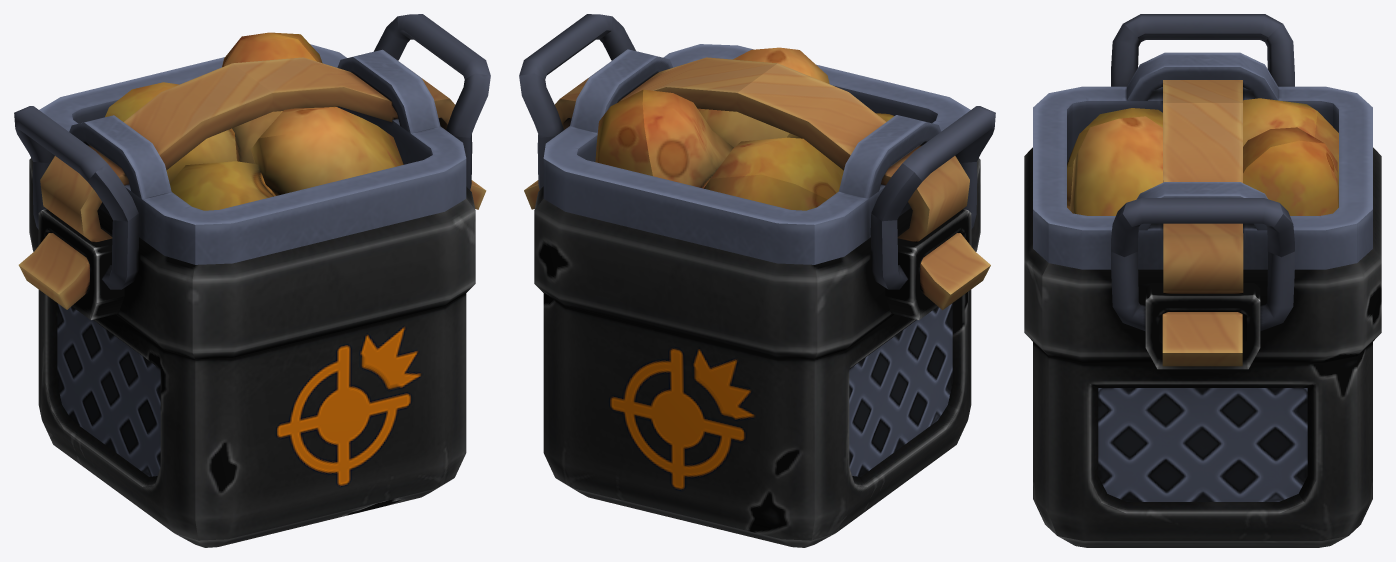
The model's file is ammo_from_scrap_mechanic.glb.
The picture shows the model from 3 angles, left to right: view 1: azimuth 30°, elevation 25°; view 2: azimuth 150°, elevation 25°; view 3: azimuth 270°, elevation 25°; orthographic projection.
Parts seen in each view (by area): view 1: obj_consumable_ammo_0; view 2: obj_consumable_ammo_0; view 3: obj_consumable_ammo_0.
Part boxes in pixels (box(x1,y1,x2,y2)): obj_consumable_ammo_0: box(14, 14, 490, 547); obj_consumable_ammo_0: box(519, 14, 995, 547); obj_consumable_ammo_0: box(1024, 14, 1381, 547).
Size of the model in its own units: 0.0227 by 0.02 by 0.0167.
Materials: 2 (2 with a texture image).
